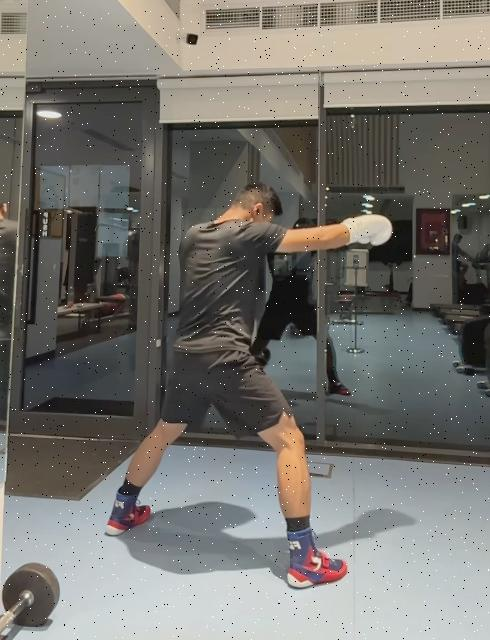punch: (103, 182, 393, 590)
